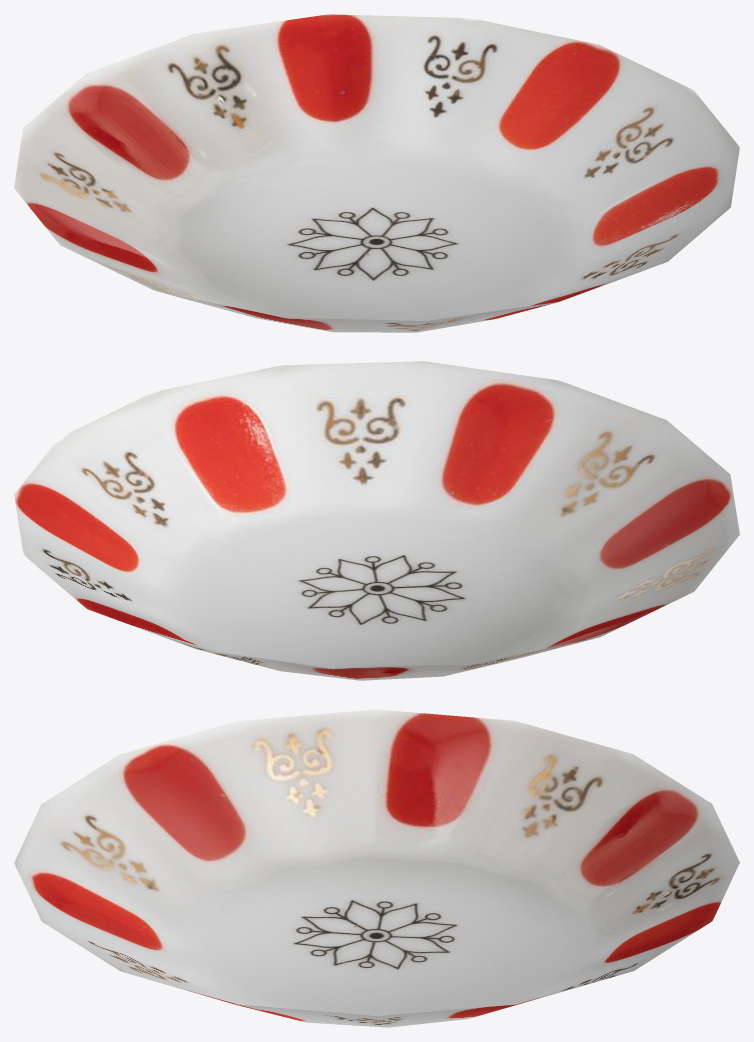
Rendered from caytabagi.glb.
The picture shows the model from 3 angles, top to bottom: view 1: azimuth 30°, elevation 25°; view 2: azimuth 150°, elevation 25°; view 3: azimuth 270°, elevation 25°; orthographic projection.
Visible parts, largest first — view 1: Plane; view 2: Plane; view 3: Plane.
Boxes of the visible parts, x1=… form: Plane: x1=14, y1=14, x2=739, y2=332; Plane: x1=14, y1=361, x2=739, y2=680; Plane: x1=14, y1=709, x2=739, y2=1027.
Bounding box in the file's own units: 3.15 × 0.3608 × 3.15.
Materials: 1 (1 with a texture image).
